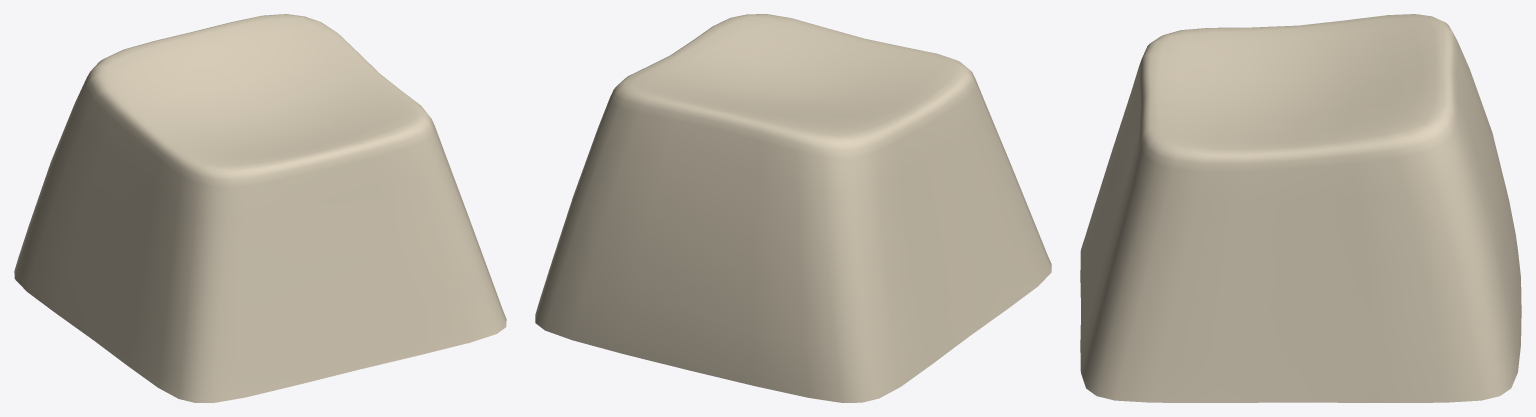
File: model__keycap.glb
3 views of the same model, side by side, from view 1: azimuth 30°, elevation 25°; view 2: azimuth 150°, elevation 25°; view 3: azimuth 270°, elevation 25° (orthographic). The views are drawn at different scales.
Parts seen in each view (by area): view 1: key; view 2: key; view 3: key.
Boxes of the visible parts, x1,y1,x2,y2 form: key: (14,14,506,402); key: (535,14,1051,402); key: (1080,14,1521,402).
Size of the model in its own units: 1.33 by 0.8281 by 1.35.
